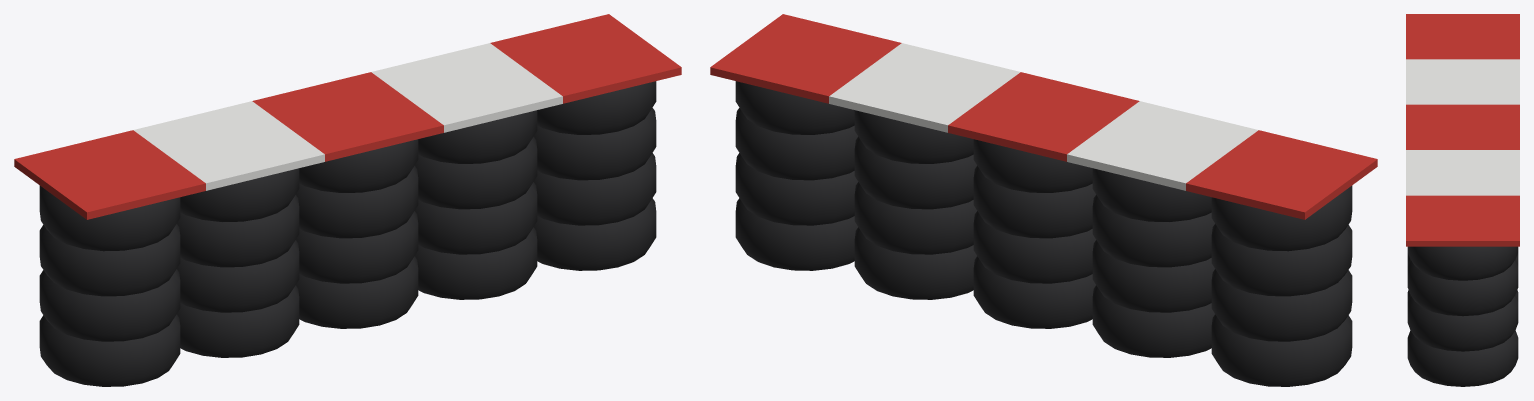
Rendered from SM_TireStack.fbx.
3 renders of one model, left to right at view 1: azimuth 30°, elevation 25°; view 2: azimuth 150°, elevation 25°; view 3: azimuth 270°, elevation 25°, orthographic. The views are drawn at different scales.
Visible parts, largest first — view 1: SM_TireStack; view 2: SM_TireStack; view 3: SM_TireStack.
Boxes of the visible parts, box(x1,y1,x2,y2) form: SM_TireStack: box(14, 14, 681, 386); SM_TireStack: box(710, 14, 1377, 386); SM_TireStack: box(1406, 14, 1519, 386).
Size of the model in its own units: 332 by 100 by 70.
